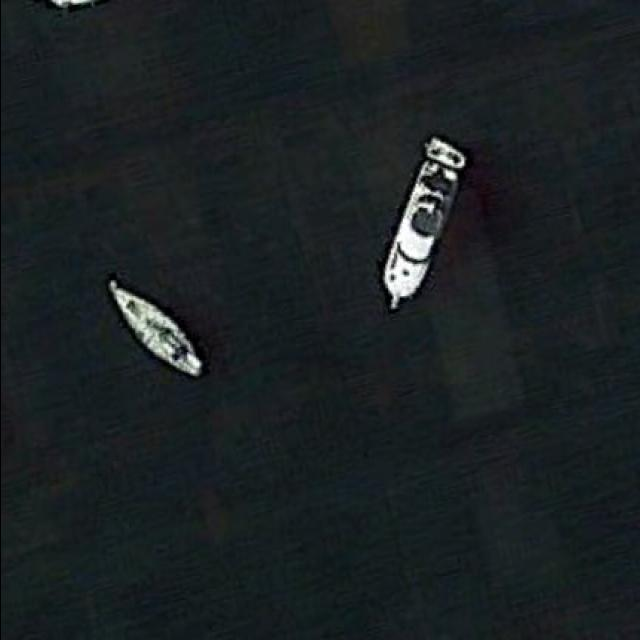ship: (381, 140, 466, 314), (106, 282, 207, 381)
